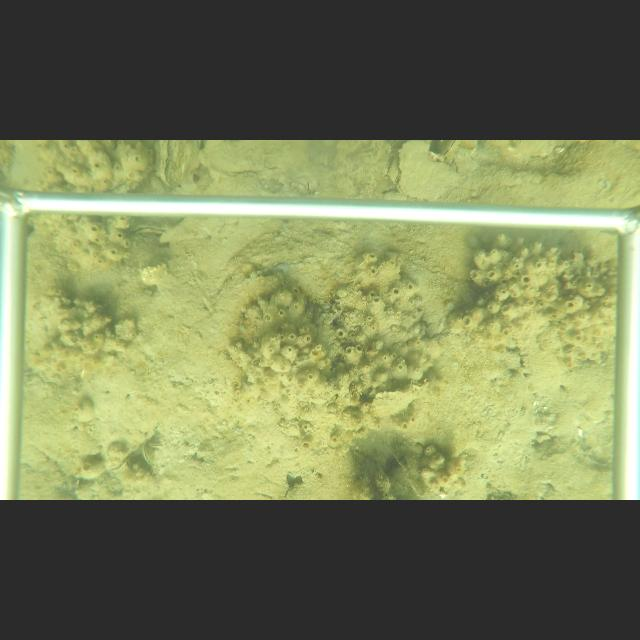Oyster-Closed: (396, 140, 460, 200), (154, 140, 202, 190), (149, 172, 165, 196), (140, 443, 154, 467), (150, 440, 162, 452)
Oyster-Open: (130, 219, 170, 237), (438, 140, 460, 158)
